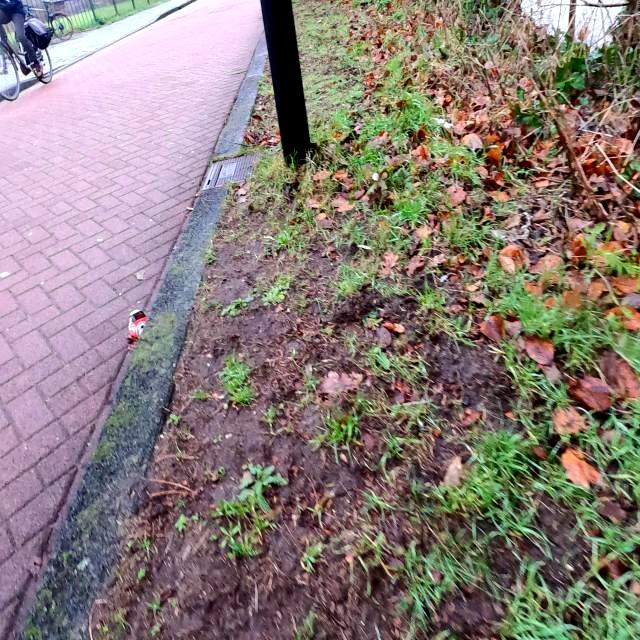Metal: (128, 308, 148, 342)
